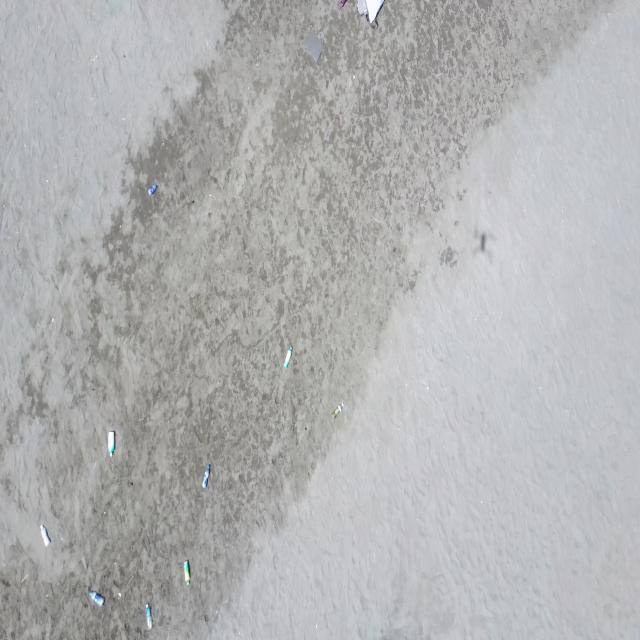Garbage: (356, 0, 383, 24), (303, 33, 322, 62), (366, 0, 383, 23), (88, 590, 103, 606), (201, 464, 211, 487), (283, 344, 292, 367), (40, 524, 49, 546), (108, 430, 115, 455), (183, 560, 190, 584), (332, 402, 343, 417), (356, 0, 366, 15), (145, 603, 151, 627), (147, 181, 156, 195), (339, 0, 347, 7)
